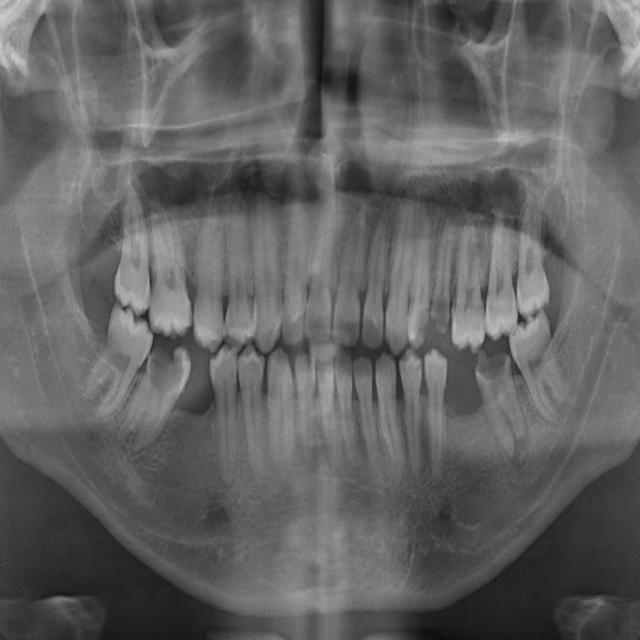3M ESPE Implant: (112, 194, 151, 319)
AGS Medikal Implant: (360, 205, 390, 351)
AMerOss Implant: (382, 188, 419, 357)
Amalgam filling: (406, 216, 438, 351)
Anthogyr Implant: (430, 211, 455, 333)
Bicon Implant: (449, 221, 485, 355)
BioHorizons Implant: (482, 207, 528, 344)
BioLife Implant: (516, 191, 551, 318)
Biomet 3i Implant: (502, 309, 577, 434)
Blue Sky Bio Implant: (508, 419, 508, 420)
Caries: (144, 197, 193, 341)
Composite filling: (422, 348, 448, 488)
Cowellmedi Implant: (398, 347, 425, 488)
Crown: (372, 349, 410, 490)
DENTSPLY Implant: (352, 355, 381, 467)
Dentatus Implant: (333, 353, 362, 473)
Dentis Implant: (315, 350, 342, 469)
Dentium Implant: (293, 352, 323, 467)
Euroteknika Implant: (265, 347, 297, 487)
Filling: (237, 343, 268, 486)
Frontier Implant: (207, 342, 239, 488)
Implant: (112, 332, 201, 461)
Keystone Dental Implant: (73, 301, 162, 427)
MIS Implant: (191, 204, 229, 354)
Mandible: (221, 192, 264, 352)
Maxilla: (251, 186, 283, 354)
Megagen Implant: (281, 196, 311, 346)
Neodent Implant: (304, 193, 336, 345)
Neoss Implant: (332, 198, 369, 346)
